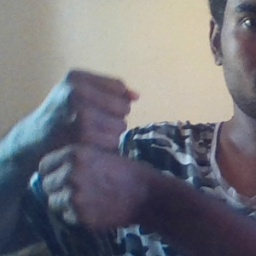G: (32, 66, 149, 231)
